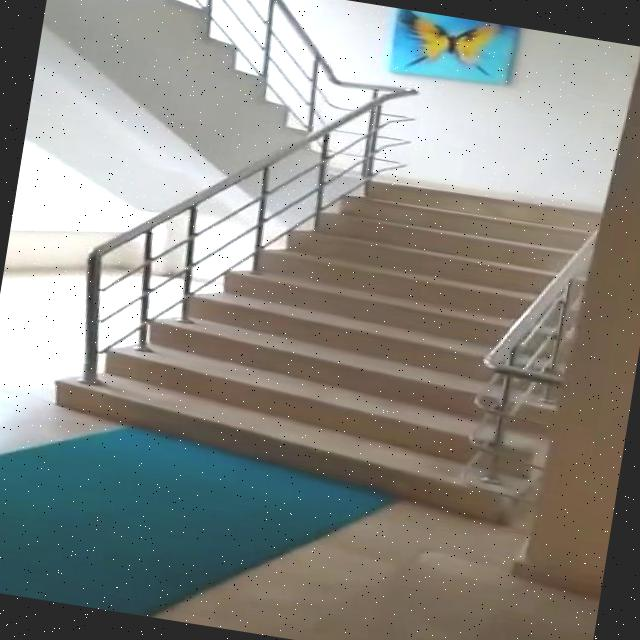stairs: (44, 130, 598, 530)
